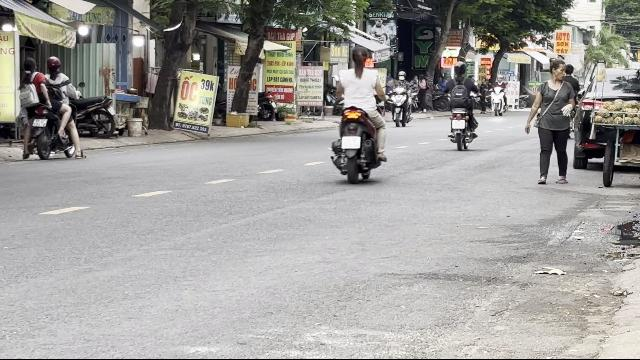helmet: (45, 56, 61, 74)
licenseplate: (342, 136, 360, 148), (33, 119, 47, 127)
motorcyclist: (329, 46, 388, 182), (18, 55, 82, 160)
nohelmet: (350, 47, 370, 72), (22, 57, 38, 72)
